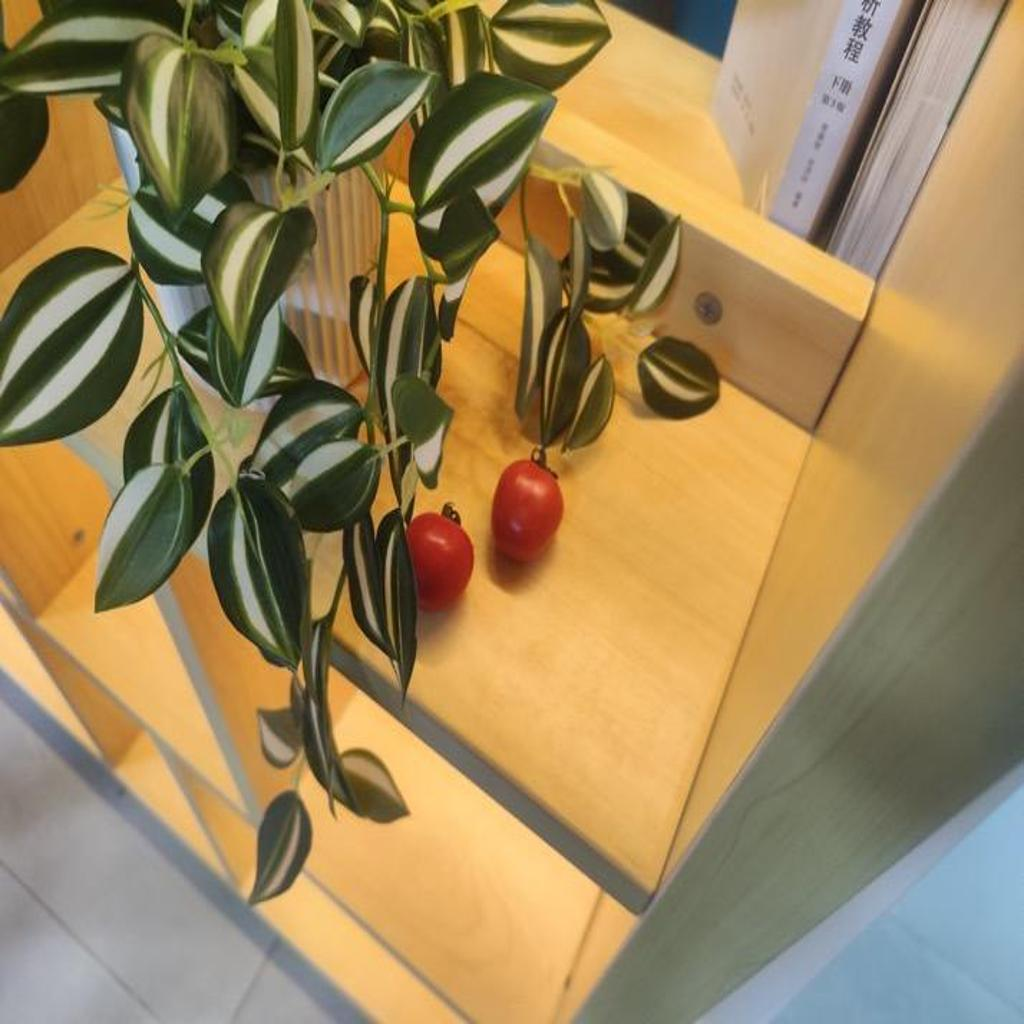tomato: (495, 454, 560, 564), (409, 511, 475, 607)
